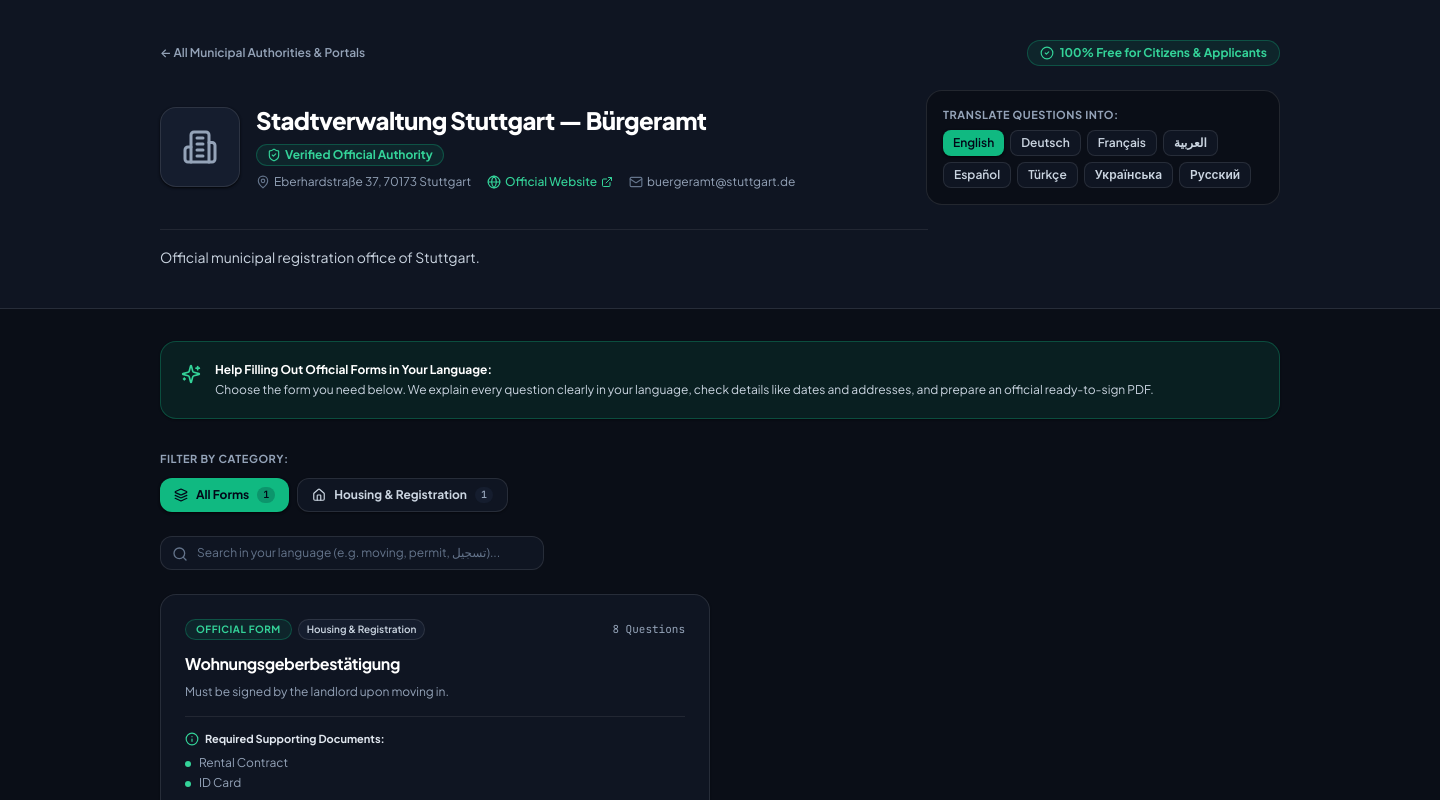
Phase G5-AI: Semantic Auto-Mapper & Form Search › performs multilingual semantic search on PublicOrganizationPortal and displays match badges
Check: the heading "Wohnungsgeberbestätigung" is shown, box [185, 653, 400, 674]
# Type a natural language query in English
In the field with placeholder "Search in your language (e.g. moving, permit, تسجيل)...": x=352, y=553 [160, 536, 544, 570], type "moving apartment landlord proof"
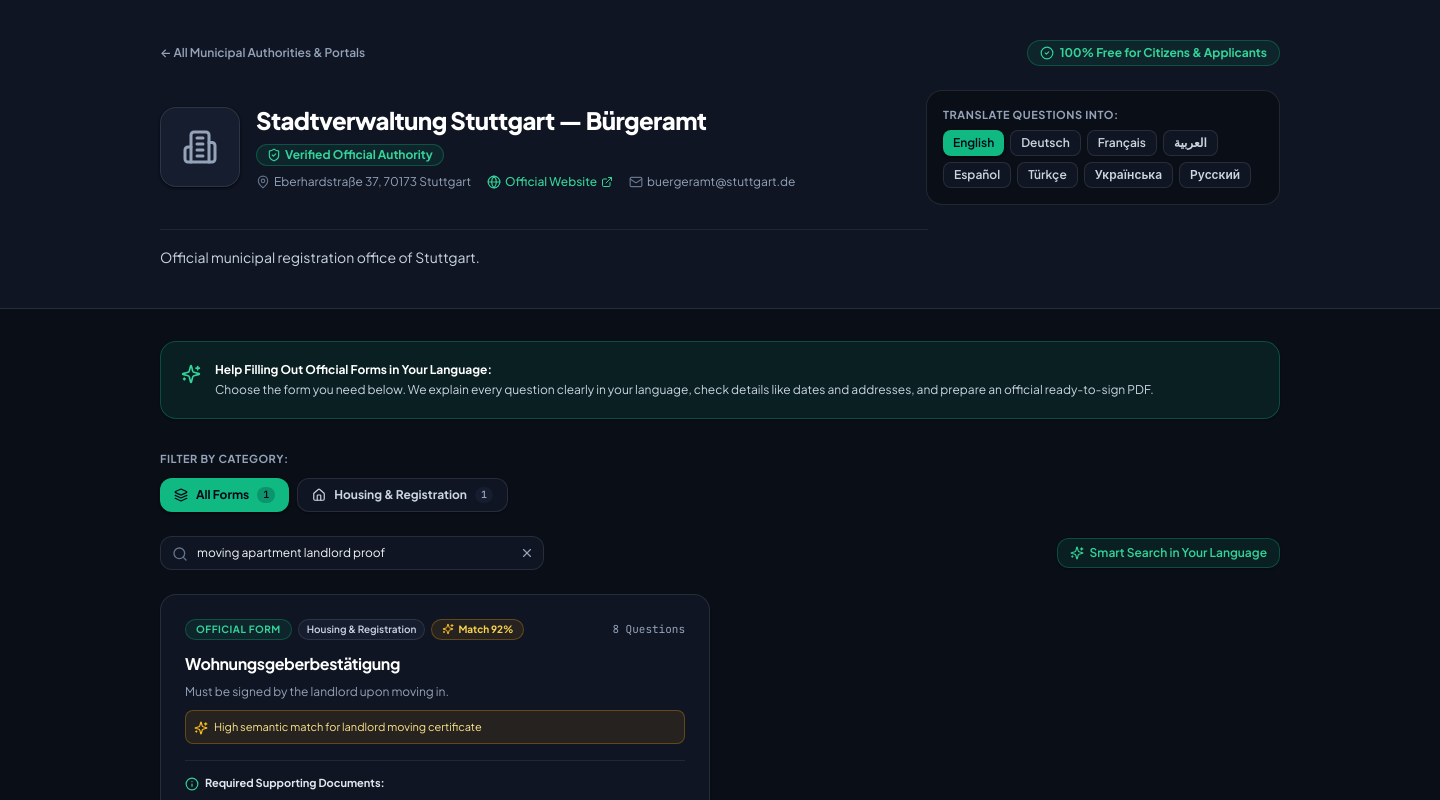
Check: the text "Smart Search in Your Language" is shown, box [1090, 545, 1267, 561]
Check: the text "Match 92%" is shown, box [458, 622, 513, 637]
Check: the text "High semantic match for landlord moving certificate" is shown, box [214, 719, 482, 735]
